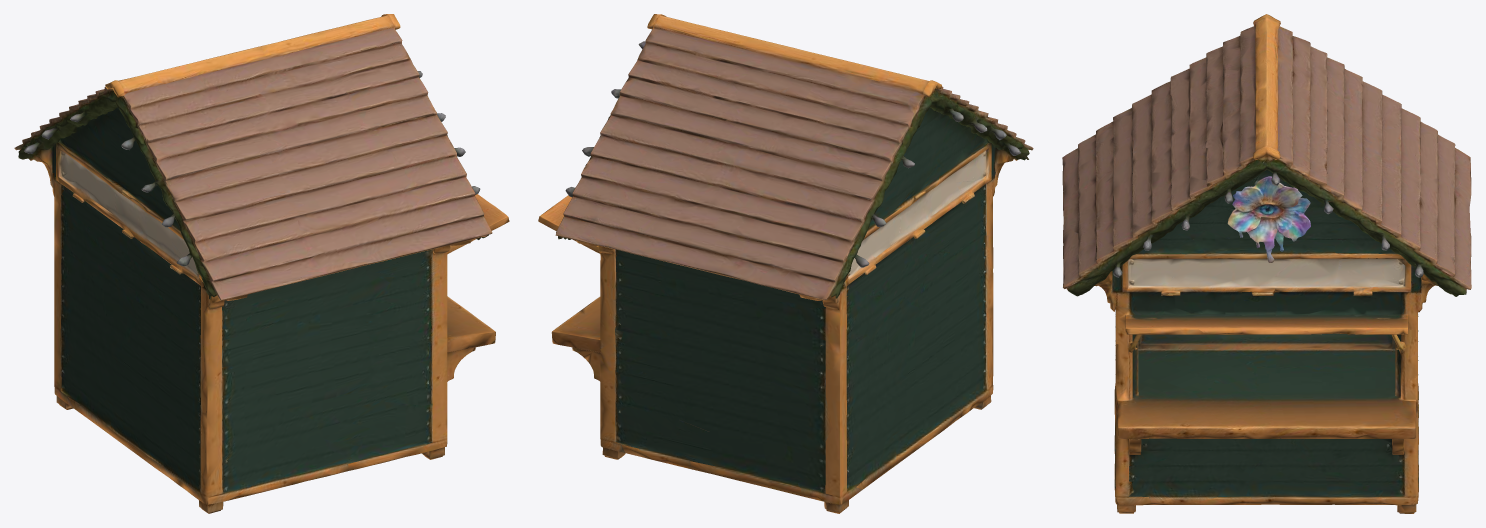
File: lt_chalet.glb
3 views of the same model, side by side, from view 1: azimuth 30°, elevation 25°; view 2: azimuth 150°, elevation 25°; view 3: azimuth 270°, elevation 25° (orthographic).
Visible parts, largest first — view 1: tripo_node_14227aaa-5ed2-463c-bfa3-93db16ec2ff2; view 2: tripo_node_14227aaa-5ed2-463c-bfa3-93db16ec2ff2; view 3: tripo_node_14227aaa-5ed2-463c-bfa3-93db16ec2ff2.
Boxes of the visible parts, left/top/right/bottom form: tripo_node_14227aaa-5ed2-463c-bfa3-93db16ec2ff2: left=14, top=14, right=509, bottom=513; tripo_node_14227aaa-5ed2-463c-bfa3-93db16ec2ff2: left=538, top=14, right=1033, bottom=513; tripo_node_14227aaa-5ed2-463c-bfa3-93db16ec2ff2: left=1062, top=14, right=1471, bottom=513.
Size of the model in its own units: 0.9211 by 1 by 0.9813.
Materials: 1 (1 with a texture image).
